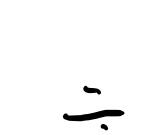div: (64, 85, 125, 131)
